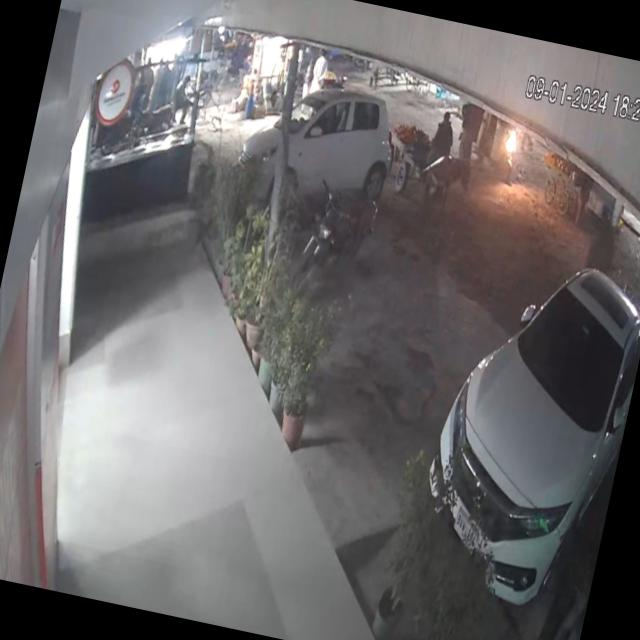Car: (401, 224, 640, 638), (229, 72, 421, 236)
Motorcycle: (283, 164, 382, 298)
